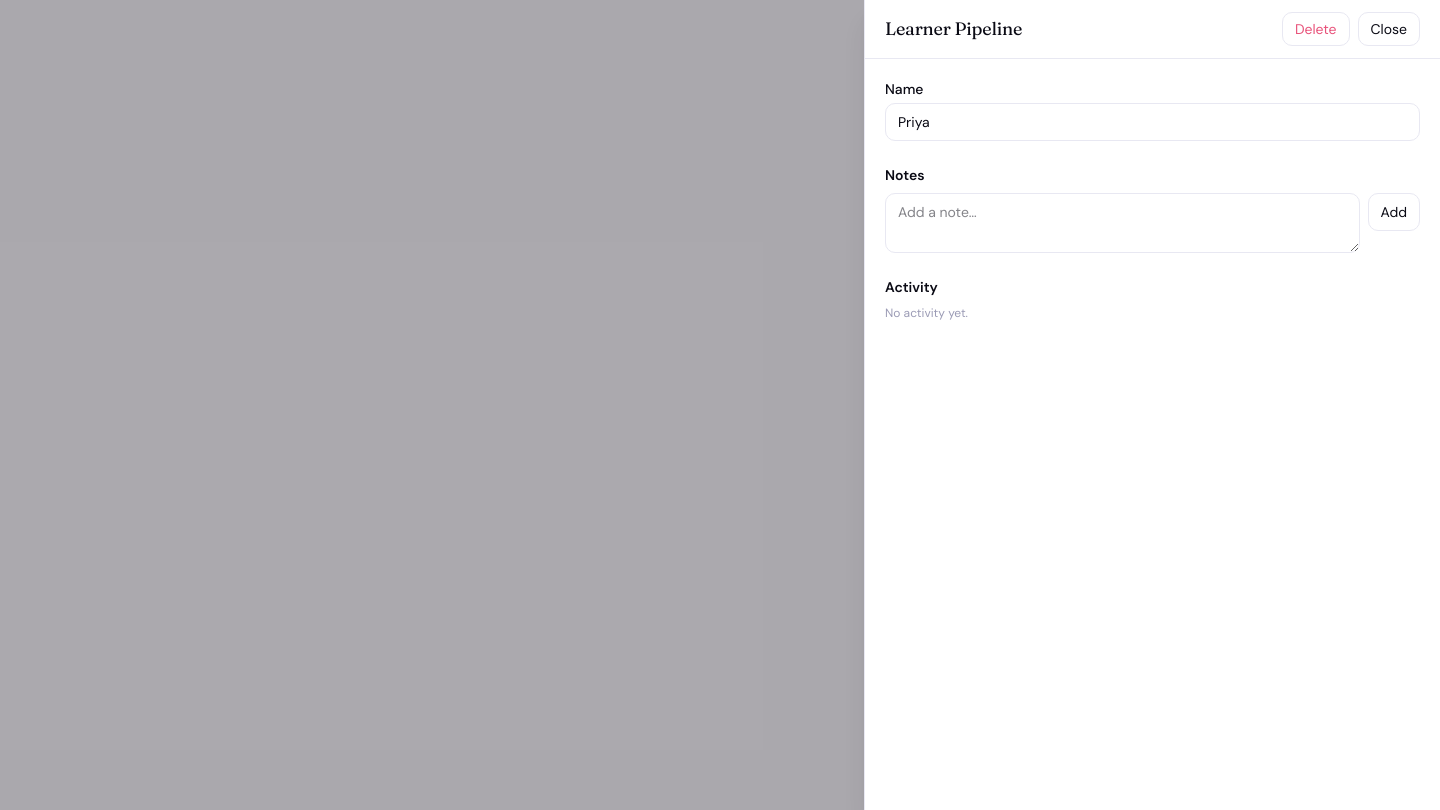
Test: saving once › Notes: pressing Add twice posts one note
Step 1. Type "Called them" into the text box with placeholder "Add a note…" → (1122,223), box [885,193,1360,253]
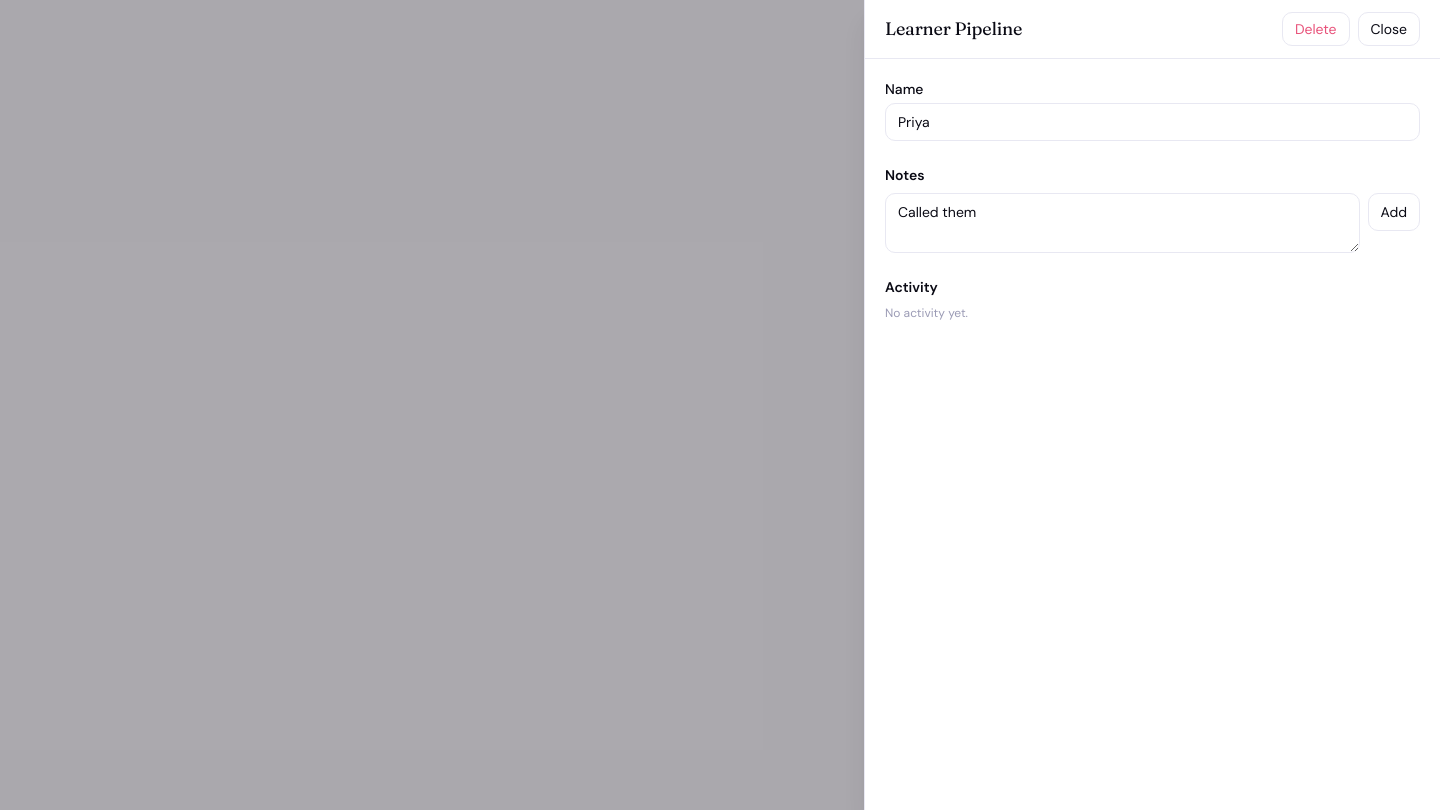
Step 2. Click the button "Add" → (1394,212), box [1368,193,1420,231]
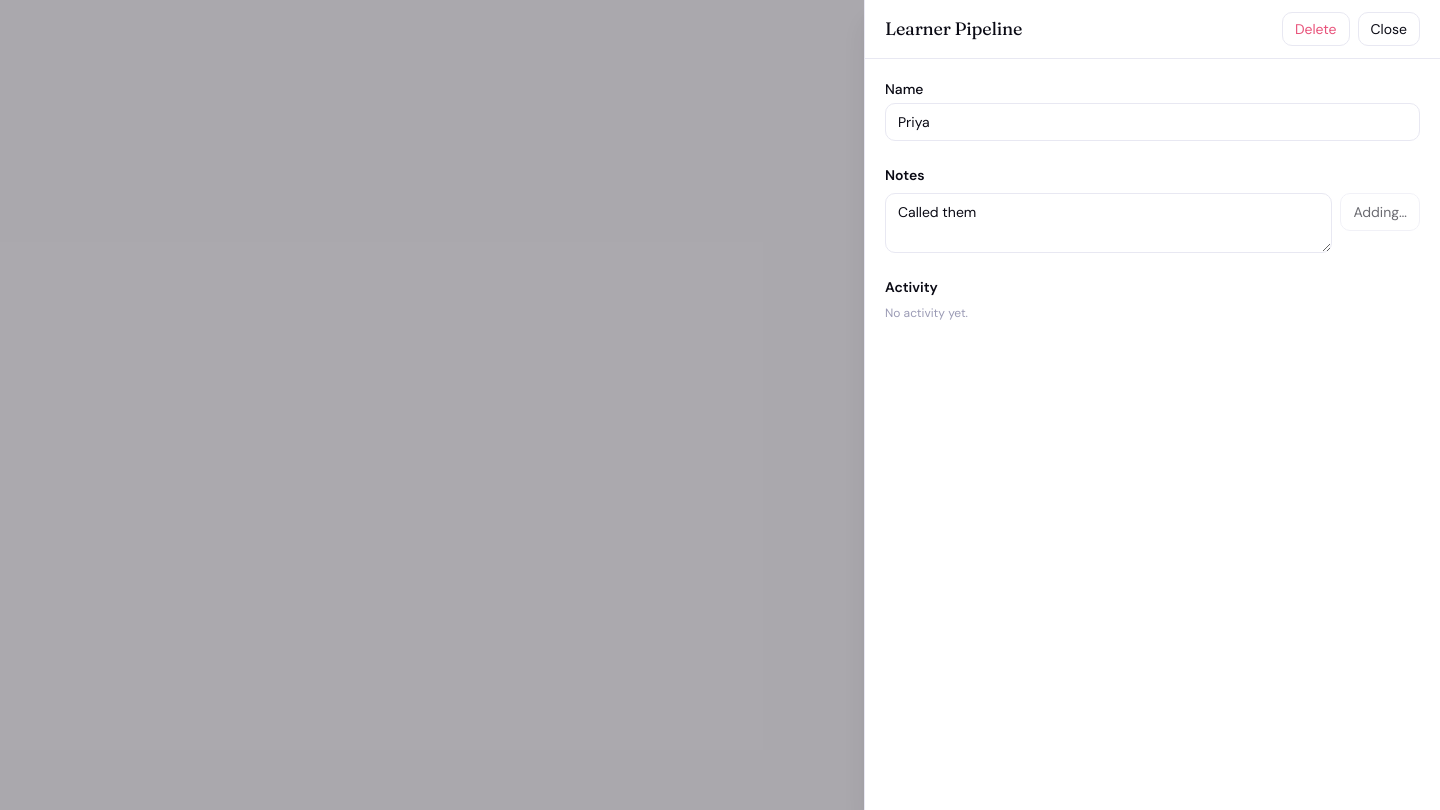
Step 3. Click the button "Adding…" → (1380,212), box [1340,193,1420,231]
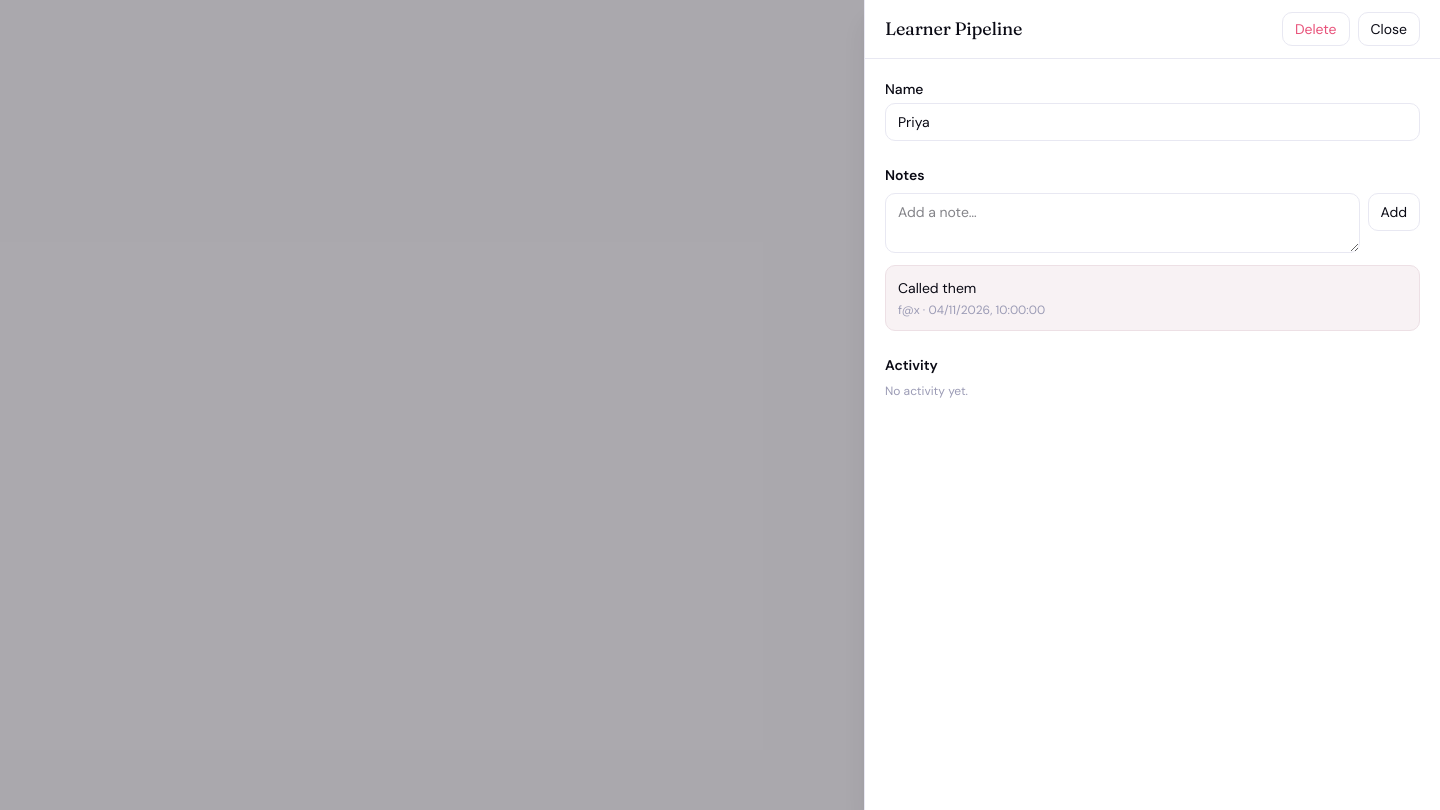
Result: the text "Called them" is shown at [898,279,976,297]
